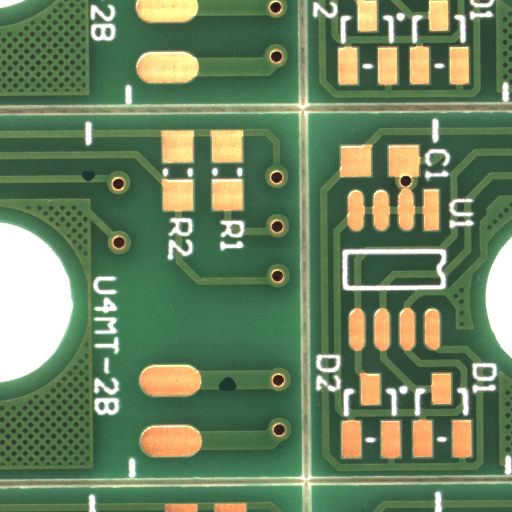Mouse_bite: (228, 384, 250, 398), (88, 175, 102, 186)
